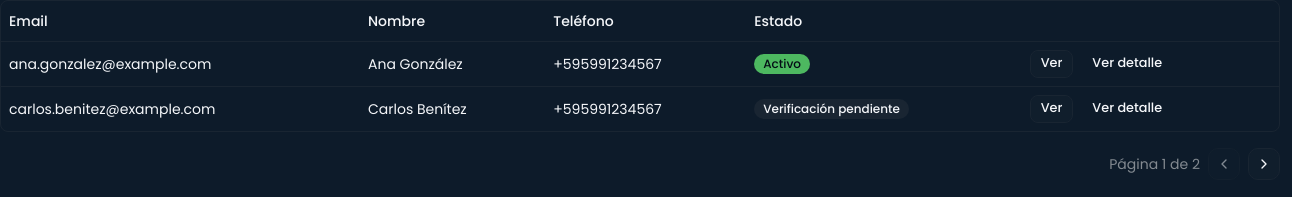
Test: UsersTable › avanza de página al hacer click en 'Página siguiente'
The width and height of the screenshot is (1292, 197).
Expected: the text "ana.gonzalez@example.com" is shown, [1,41,360,86]
Click the button named "Página siguiente" at (1264, 164), box [1248,148,1280,180]
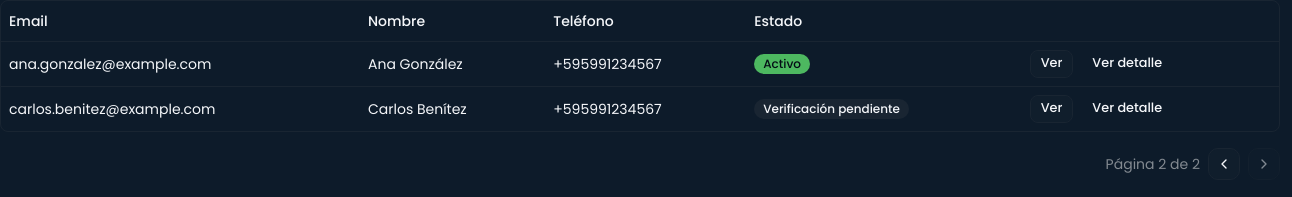
Expected: the text "Página 2 de 2" is shown, [1106,154,1200,174]
